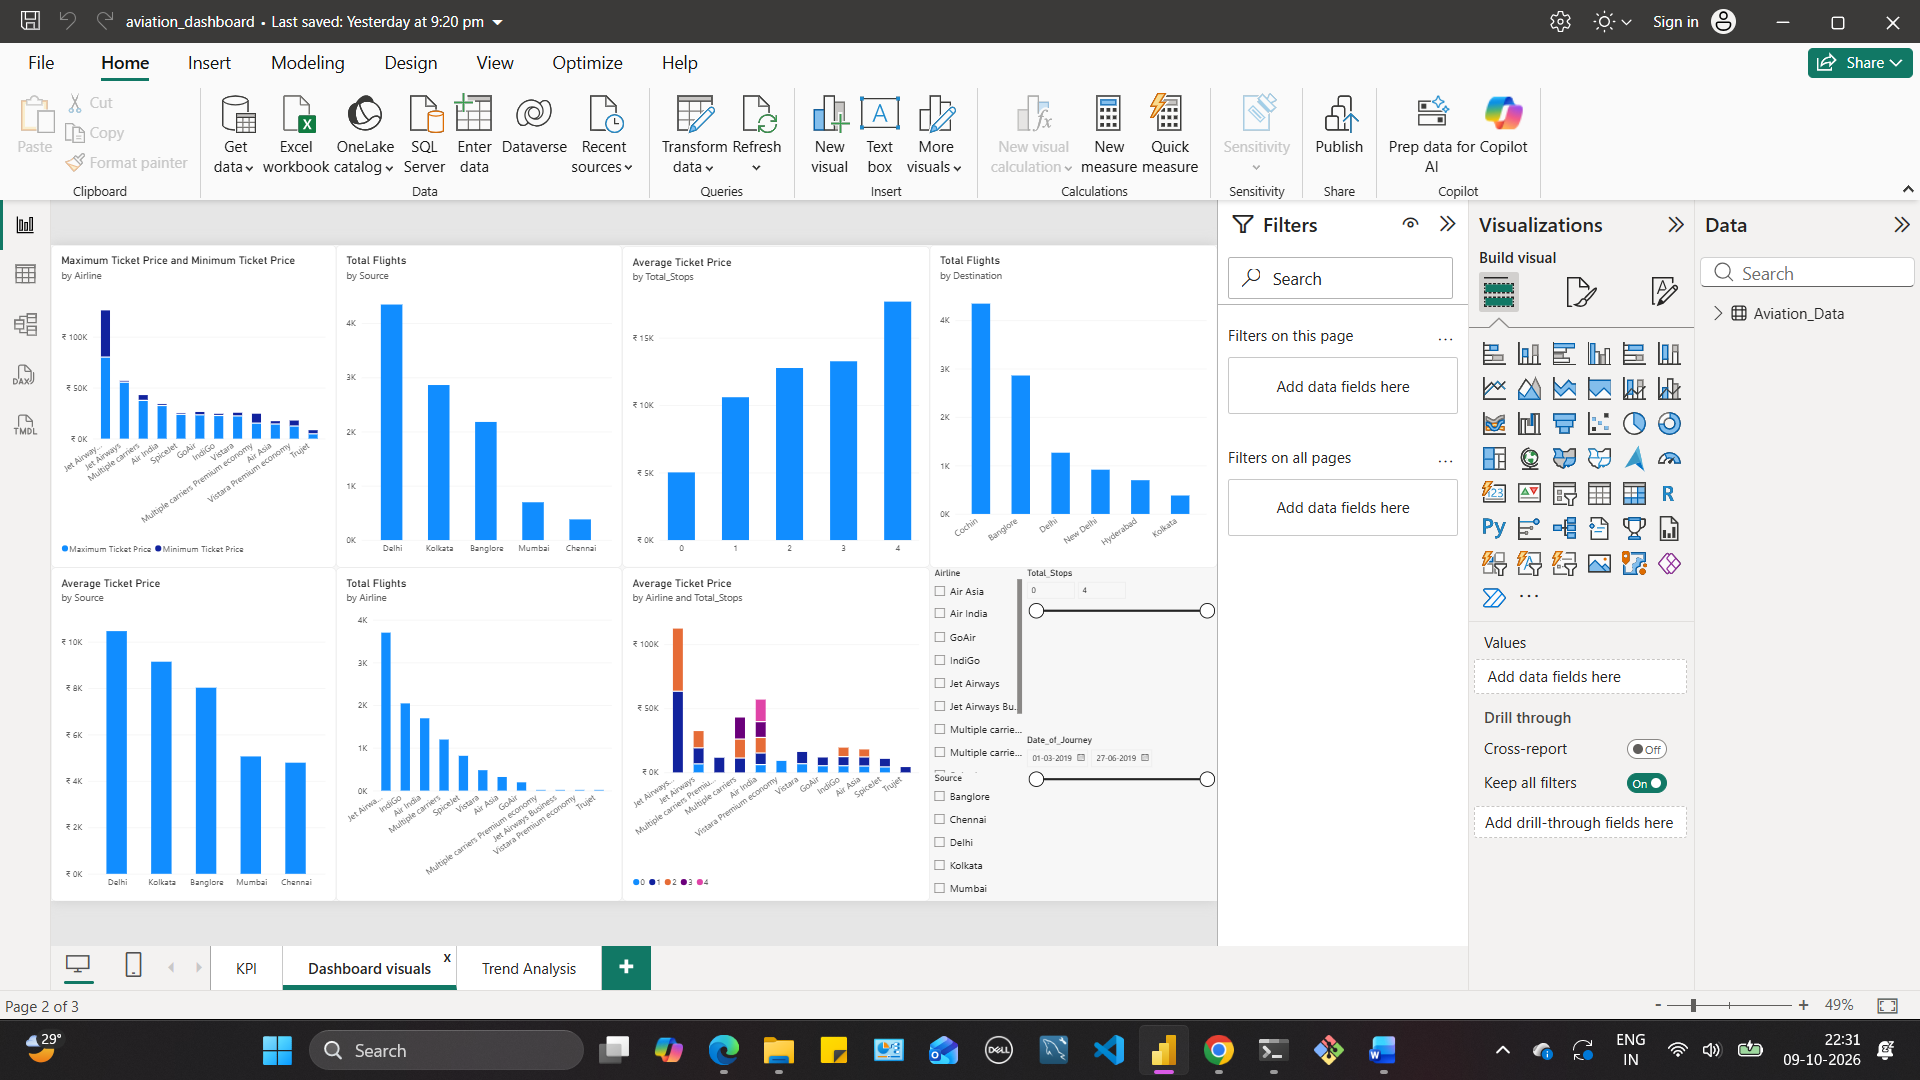

This screenshot's page, from the dashboard's own definition file:
{"tool":"powerbi","page":{"name":"Dashboard visuals","canvas":[1920,1080],"ordinal":1},"visuals":[{"type":"columnChart","fields":{"Category":["Aviation_Data.Airline"],"Y":["Aviation_Data.Maximum Ticket Price","Aviation_Data.Minimum Ticket Price"]},"box":[0,0,469.3,531],"z":0},{"type":"columnChart","fields":{"Category":["Aviation_Data.Source"],"Y":["Aviation_Data.Total Flights"]},"box":[469.3,0,471.4,531],"z":1},{"type":"columnChart","fields":{"Category":["Aviation_Data.Total_Stops"],"Y":["Aviation_Data.Average Ticket Price"]},"box":[940.7,2.1,506.3,529],"z":2},{"type":"columnChart","fields":{"Category":["Aviation_Data.Destination"],"Y":["Aviation_Data.Total Flights"]},"box":[1447,0,473.4,531],"z":3},{"type":"columnChart","fields":{"Category":["Aviation_Data.Source"],"Y":["Aviation_Data.Average Ticket Price"]},"box":[0,531,469.3,549.6],"z":4},{"type":"columnChart","fields":{"Category":["Aviation_Data.Airline"],"Y":["Aviation_Data.Total Flights"]},"box":[469.3,531,471.4,549.6],"z":5},{"type":"columnChart","fields":{"Category":["Aviation_Data.Airline"],"Series":["Aviation_Data.Total_Stops"],"Y":["Aviation_Data.Average Ticket Price"]},"box":[940.7,531,506.3,549.6],"z":6},{"type":"slicer","fields":{"Values":["Aviation_Data.Airline"]},"box":[1447,531,152.3,337.6],"z":7},{"type":"slicer","fields":{"Values":["Aviation_Data.Source"]},"box":[1447,868.6,152.3,212],"z":8},{"type":"slicer","fields":{"Values":["Aviation_Data.Total_Stops"]},"box":[1599.3,531,321.1,244.9],"z":9},{"type":"slicer","fields":{"Values":["Aviation_Data.Date_of_Journey"]},"box":[1599.3,806.9,321.1,273.8],"z":10}]}

Visuals, with their boxes on the page's 1920x1080 design canvas (x1, y1, x2, y2). These are canvas units, not pixel positions in the 1920x1080 screenshot, which may show the page scaled, cropped or inside an application window:
columnChart - Aviation_Data.Airline x Aviation_Data.Maximum Ticket Price: region(0, 0, 469, 531)
columnChart - Aviation_Data.Source x Aviation_Data.Total Flights: region(469, 0, 941, 531)
columnChart - Aviation_Data.Total_Stops x Aviation_Data.Average Ticket Price: region(941, 2, 1447, 531)
columnChart - Aviation_Data.Destination x Aviation_Data.Total Flights: region(1447, 0, 1920, 531)
columnChart - Aviation_Data.Source x Aviation_Data.Average Ticket Price: region(0, 531, 469, 1081)
columnChart - Aviation_Data.Airline x Aviation_Data.Total Flights: region(469, 531, 941, 1081)
columnChart - Aviation_Data.Airline x Aviation_Data.Total_Stops: region(941, 531, 1447, 1081)
slicer - Aviation_Data.Airline: region(1447, 531, 1599, 869)
slicer - Aviation_Data.Source: region(1447, 869, 1599, 1081)
slicer - Aviation_Data.Total_Stops: region(1599, 531, 1920, 776)
slicer - Aviation_Data.Date_of_Journey: region(1599, 807, 1920, 1081)
